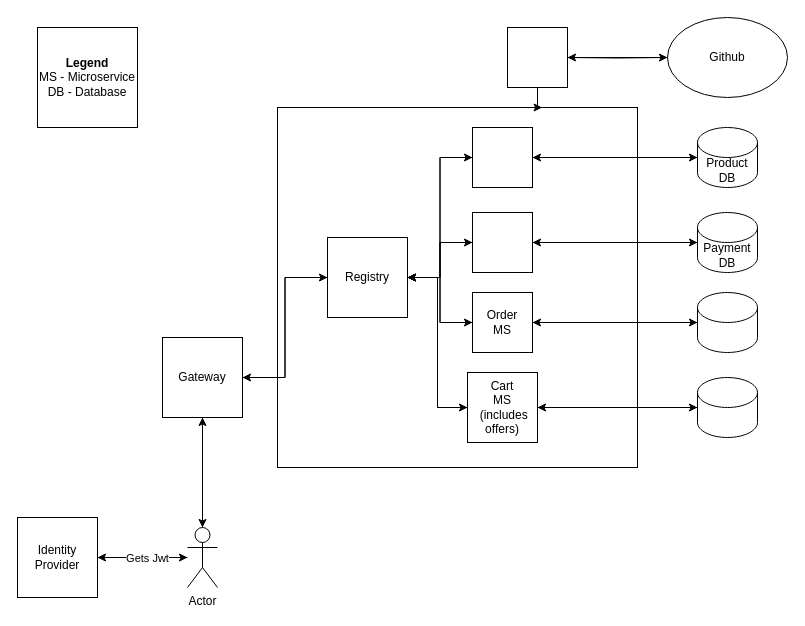
Some shapes in this 805 by 626 pixel diagram are drawn without their labels. Here are the shapes that lost their labels. From the top down, the box of each, then its label:
(506, 26, 568, 88): Config Server
(472, 126, 532, 188): Product MS
(472, 212, 532, 272): Payment MS
(696, 292, 758, 352): Order DB
(696, 376, 758, 438): Cart DB
